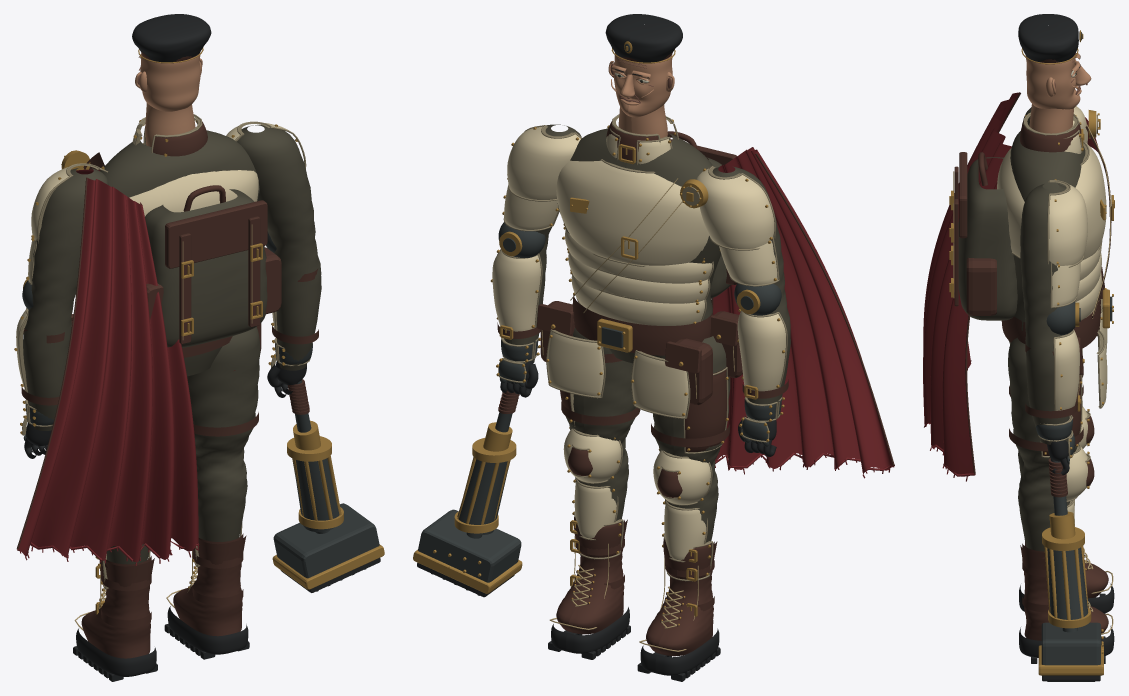
3 renders of one model, left to right at view 1: azimuth 30°, elevation 25°; view 2: azimuth 150°, elevation 25°; view 3: azimuth 270°, elevation 25°, orthographic. The views are drawn at different scales.
Visible parts, largest first — view 1: cape-red, torso-cloth, leg-right-cloth, arm-right-cloth, torso-leather, arm-left-cloth, arm-right-steel, leg-right-leather, leg-left-leather, head-skin, arm-right-brass, torso-cream (+11 smaller); view 2: torso-cream, cape-red, arm-left-cream, torso-leather, arm-right-cream, leg-left-leather, arm-right-steel, leg-right-leather, arm-right-brass, torso-cloth, leg-right-cloth, head-skin (+18 smaller); view 3: cape-red, torso-cloth, arm-right-cloth, torso-leather, arm-right-steel, arm-right-cream, torso-cream, leg-right-cloth, arm-right-brass, head-skin, leg-right-leather, head-black (+11 smaller).
Boxes of the visible parts, bbox=[...] form: cape-red: bbox=[17, 169, 199, 565]; torso-cloth: bbox=[100, 130, 267, 376]; leg-right-cloth: bbox=[187, 327, 260, 541]; arm-right-cloth: bbox=[237, 125, 321, 370]; torso-leather: bbox=[71, 121, 281, 357]; arm-left-cloth: bbox=[23, 168, 108, 430]; arm-right-steel: bbox=[266, 231, 379, 591]; leg-right-leather: bbox=[173, 370, 258, 636]; leg-left-leather: bbox=[81, 556, 154, 658]; head-skin: bbox=[135, 52, 202, 146]; arm-right-brass: bbox=[231, 124, 384, 589]; torso-cream: bbox=[129, 132, 258, 216]; torso-cream: bbox=[548, 134, 712, 417]; cape-red: bbox=[713, 147, 894, 478]; arm-left-cream: bbox=[696, 168, 785, 391]; torso-leather: bbox=[537, 121, 742, 405]; arm-right-cream: bbox=[492, 126, 580, 331]; leg-left-leather: bbox=[646, 367, 729, 656]; arm-right-steel: bbox=[418, 222, 545, 595]; leg-right-leather: bbox=[556, 353, 640, 634]; arm-right-brass: bbox=[413, 127, 578, 593]; torso-cloth: bbox=[557, 128, 730, 363]; leg-right-cloth: bbox=[565, 328, 636, 520]; head-skin: bbox=[608, 53, 674, 138]; cape-red: bbox=[923, 92, 1097, 481]; torso-cloth: bbox=[958, 124, 1085, 344]; arm-right-cloth: bbox=[1020, 184, 1069, 444]; torso-leather: bbox=[954, 121, 1111, 405]; arm-right-steel: bbox=[1035, 302, 1100, 681]; arm-right-cream: bbox=[1049, 185, 1087, 410]; torso-cream: bbox=[997, 134, 1107, 405]; leg-right-cloth: bbox=[1008, 337, 1078, 551]; arm-right-brass: bbox=[1038, 179, 1103, 675]; head-skin: bbox=[1025, 53, 1091, 133]; leg-right-leather: bbox=[1009, 366, 1108, 640]; head-black: bbox=[1018, 14, 1080, 74].
Size of the model in its own units: 1.36 by 1.99 by 0.569.
